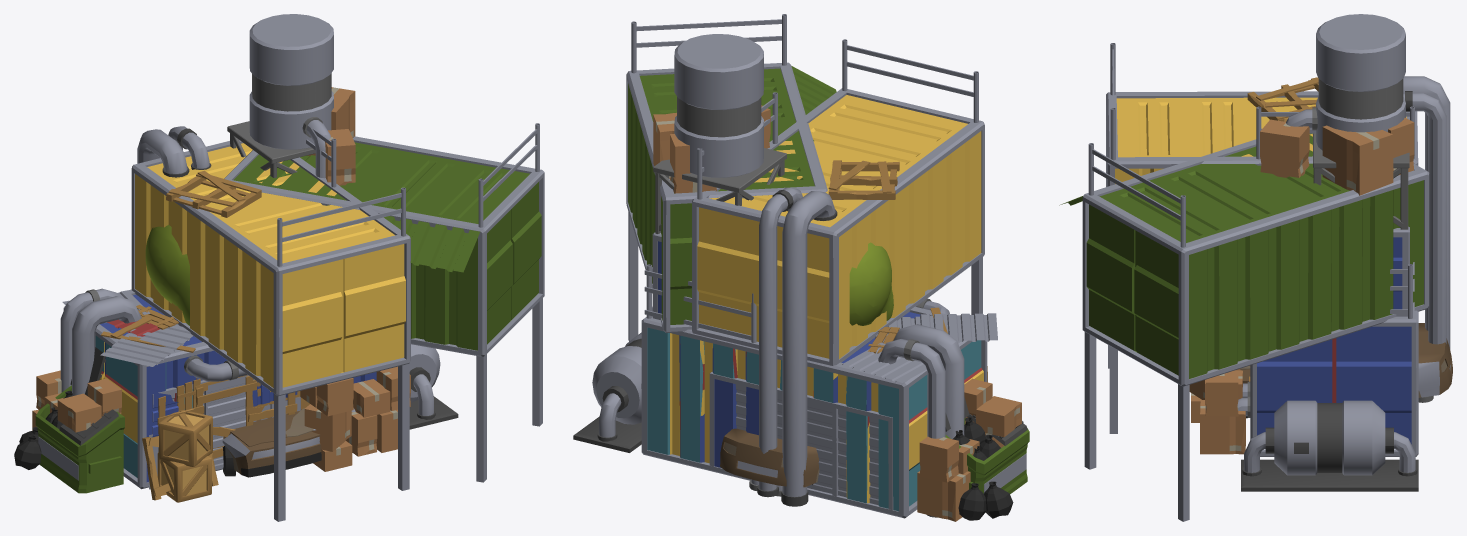
File: props.glb
3 renders of one model, left to right at view 1: azimuth 30°, elevation 25°; view 2: azimuth 150°, elevation 25°; view 3: azimuth 270°, elevation 25°, orthographic. The views are drawn at different scales.
Visible parts, largest first — view 1: Structure_4, Structure_2, Structure_3, Structure_1, Debris_BrokenCar, Tree_1; view 2: Structure_4, Structure_2, Structure_3, Structure_1, Debris_BrokenCar, Tree_1; view 3: Structure_2, Structure_4, Structure_3, Debris_BrokenCar, Structure_1.
Part boxes in pixels (x1,y1,x2,y2): Structure_4: [14, 126, 458, 521]; Structure_2: [60, 87, 544, 502]; Structure_3: [32, 14, 376, 489]; Structure_1: [36, 289, 355, 496]; Debris_BrokenCar: [222, 408, 321, 477]; Tree_1: [145, 225, 189, 325]; Structure_4: [573, 39, 1029, 520]; Structure_2: [626, 14, 997, 517]; Structure_3: [641, 34, 1004, 521]; Structure_1: [642, 264, 1021, 521]; Debris_BrokenCar: [720, 428, 819, 487]; Tree_1: [849, 242, 893, 325]; Structure_2: [1059, 118, 1429, 521]; Structure_4: [1106, 43, 1450, 491]; Structure_3: [1237, 14, 1418, 456]; Debris_BrokenCar: [1240, 323, 1452, 418]; Structure_1: [1238, 262, 1418, 456].
Bounding box in the file's own units: 11.86 × 9.65 × 8.48.
